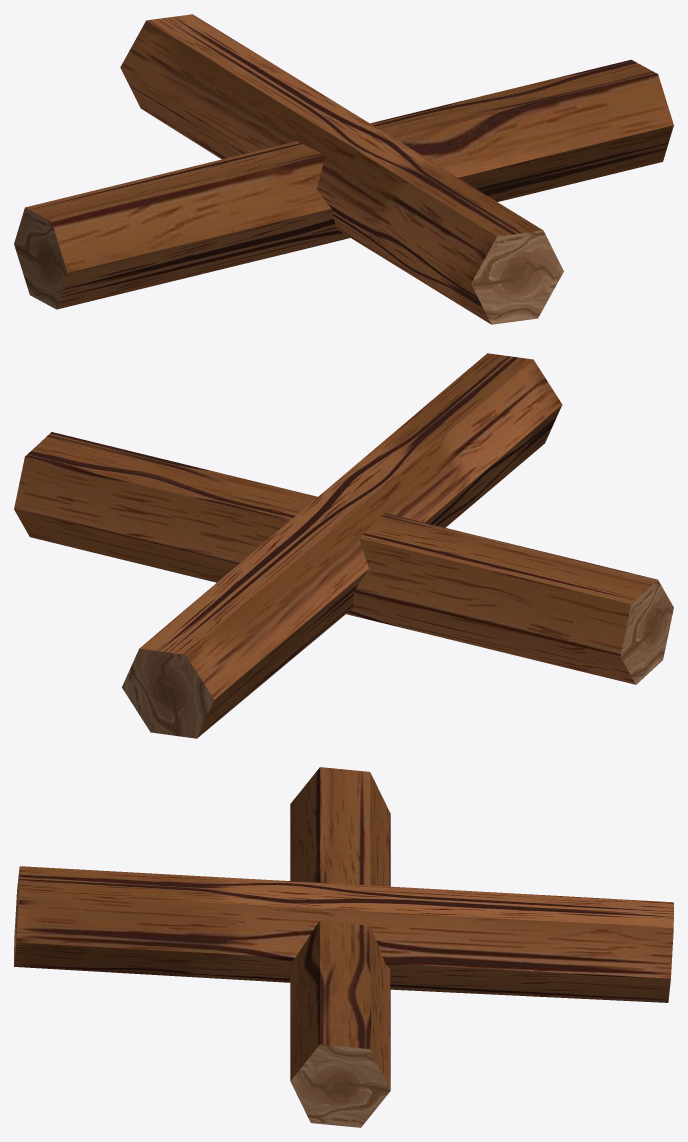
Rendered from Woods.fbx.
3 renders of one model, top to bottom at view 1: azimuth 30°, elevation 25°; view 2: azimuth 150°, elevation 25°; view 3: azimuth 270°, elevation 25°, orthographic. The views are drawn at different scales.
Parts seen in each view (by area): view 1: Woods; view 2: Woods; view 3: Woods.
Part boxes in pixels (x1=…): Woods: x1=14, y1=14, x2=673, y2=324; Woods: x1=14, y1=353, x2=673, y2=738; Woods: x1=14, y1=767, x2=673, y2=1127.
Size of the model in its own units: 6.5 by 1.31 by 6.54.
